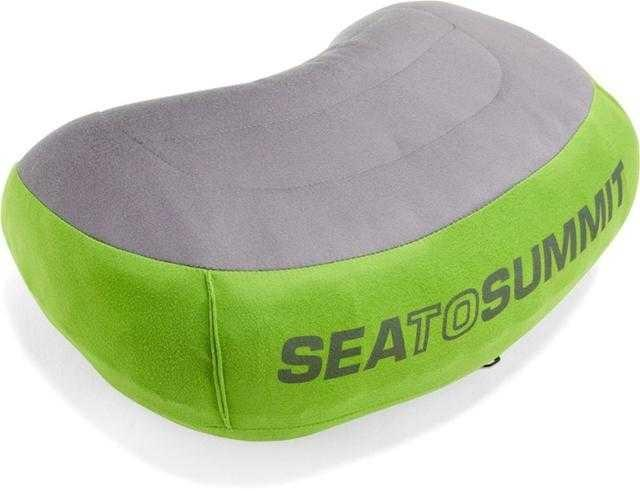pillow: (1, 0, 640, 442)
